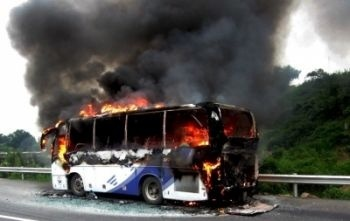fire: (80, 98, 152, 116)
